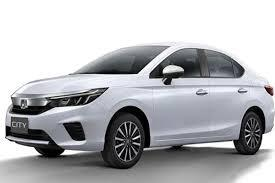Sedan: (4, 39, 272, 175)
